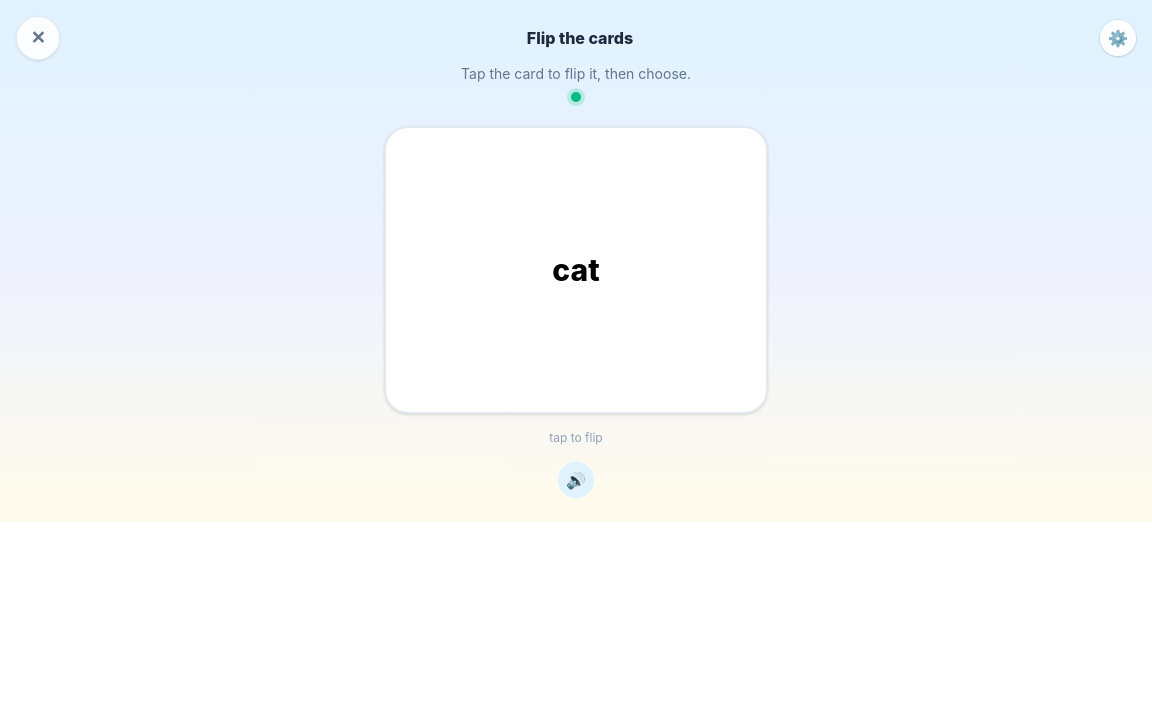
FlashcardScreen › Again on the only card does NOT finish — it re-queues the card
Click the button with aria-label "flip".
click(576, 270)  # box [384,126,768,414]
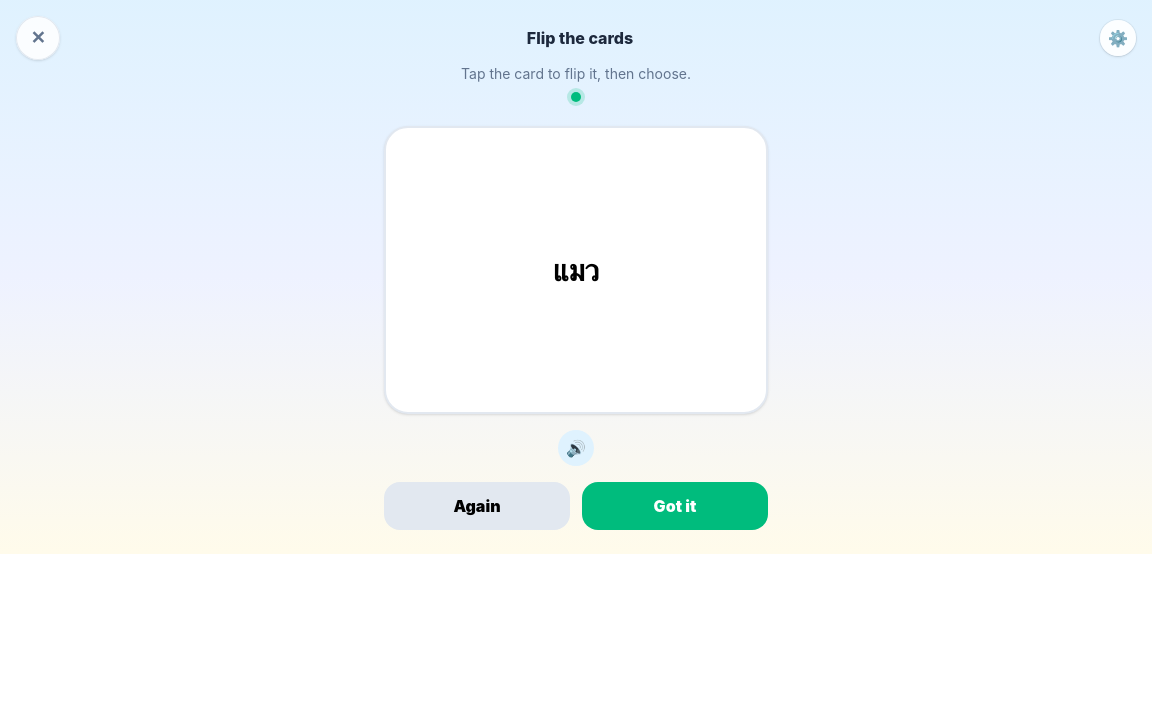
Click the button "Again".
click(477, 506)  # box [384,482,570,530]
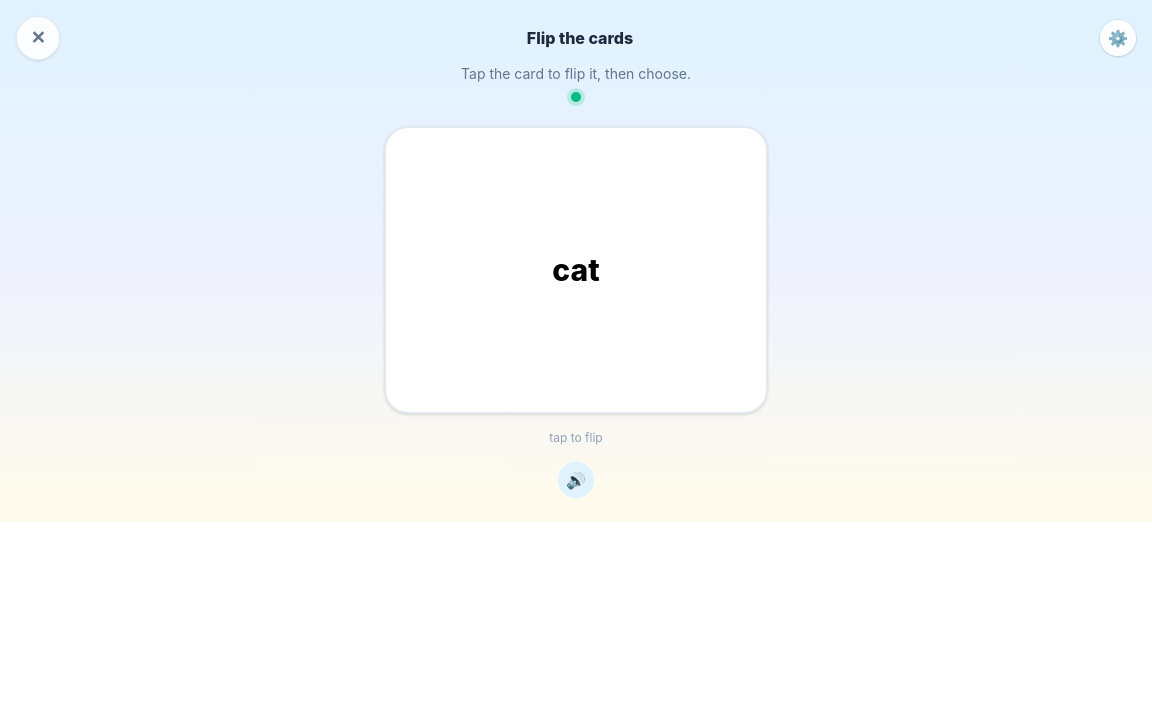
Expected: the button "cat" is shown, [384,126,768,414]
